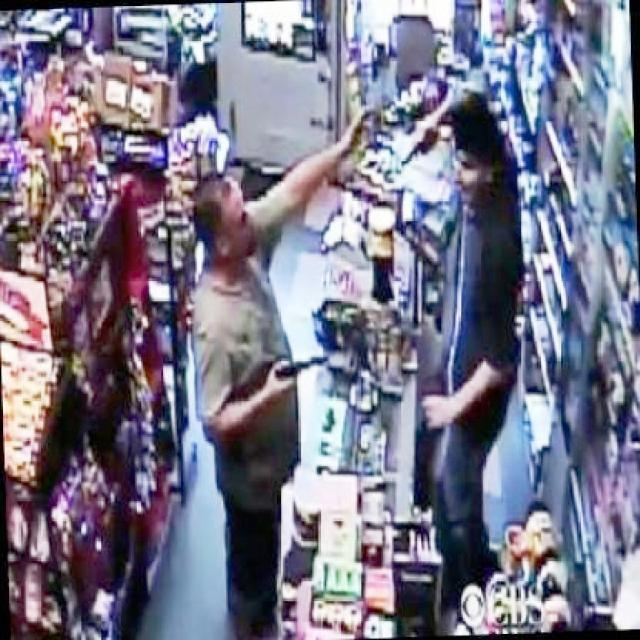Gun: (277, 343, 339, 399), (386, 122, 442, 172)
